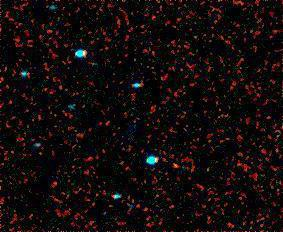star: (161, 148, 191, 178)
